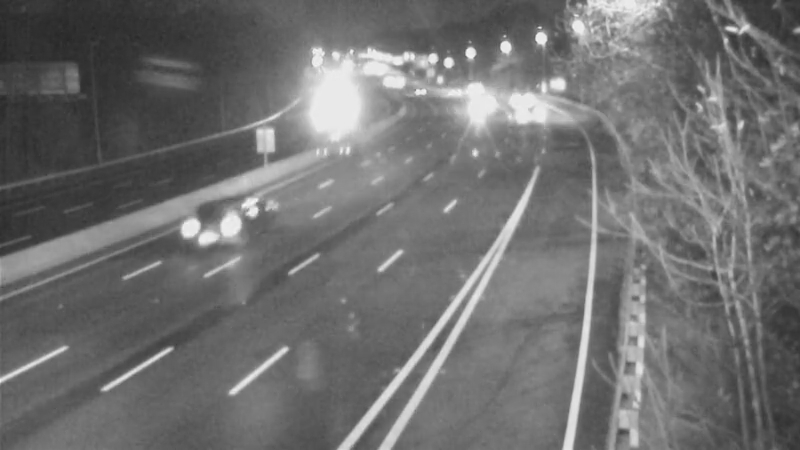vehicle: (198, 178, 278, 258), (488, 71, 538, 121), (455, 78, 505, 128), (458, 87, 508, 137), (501, 88, 551, 138)
